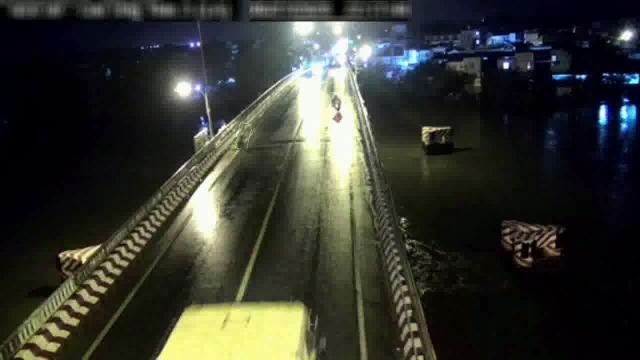Bike: (237, 123, 251, 149), (330, 93, 342, 119)
